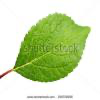Apple leaf: (12, 11, 94, 85)
